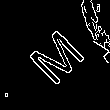M_NW: (13, 13, 81, 81)
